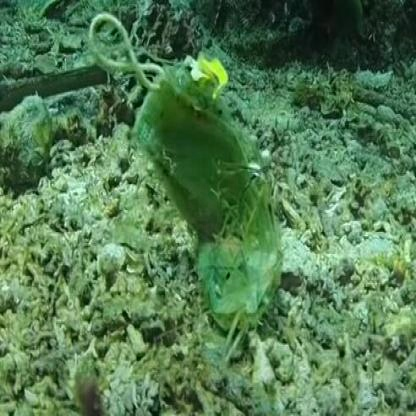Mask: (86, 13, 283, 366)
